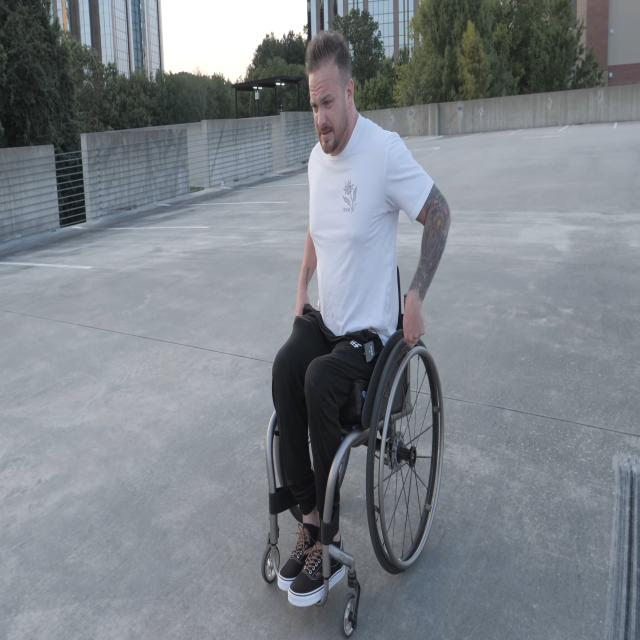wheelchairs: (263, 211, 443, 637)
